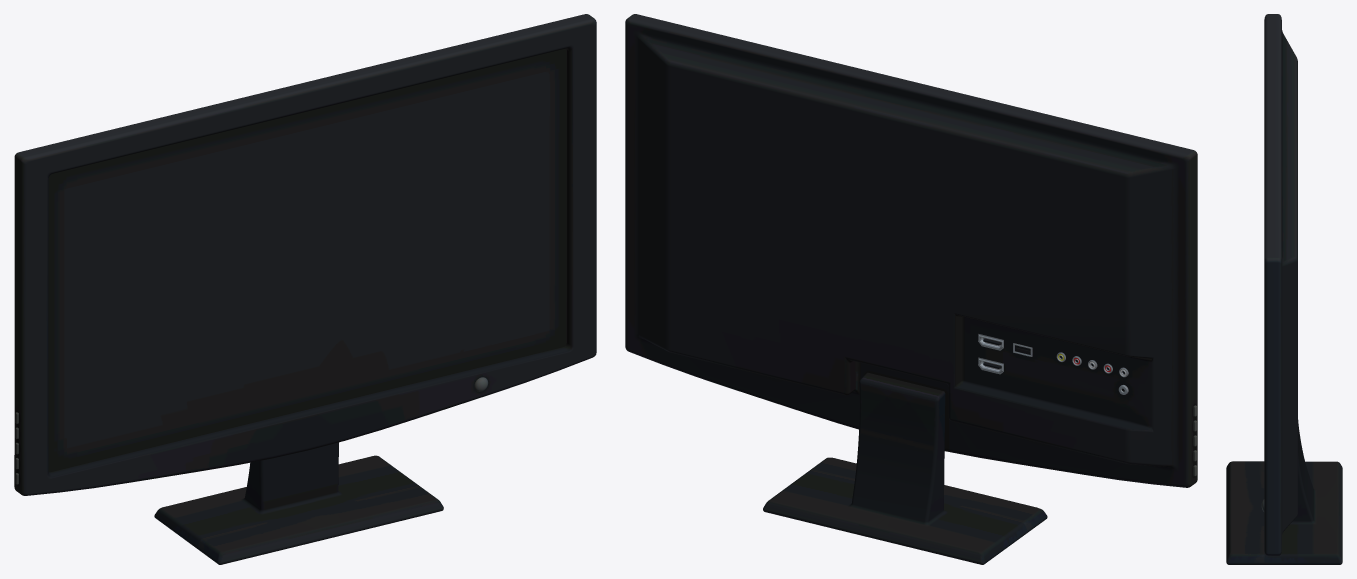
Rendered from Television.fbx.
3 views of the same model, side by side, from view 1: azimuth 30°, elevation 25°; view 2: azimuth 150°, elevation 25°; view 3: azimuth 270°, elevation 25° (orthographic). The views are drawn at different scales.
Visible parts, largest first — view 1: node_id89; view 2: node_id89; view 3: node_id89.
Boxes of the visible parts, <box> form: node_id89: <box>14,14,596,564</box>; node_id89: <box>625,14,1197,564</box>; node_id89: <box>1226,14,1342,564</box>.
Size of the model in its own units: 0.512 by 0.3676 by 0.1016.
1 material, 1 textured.
